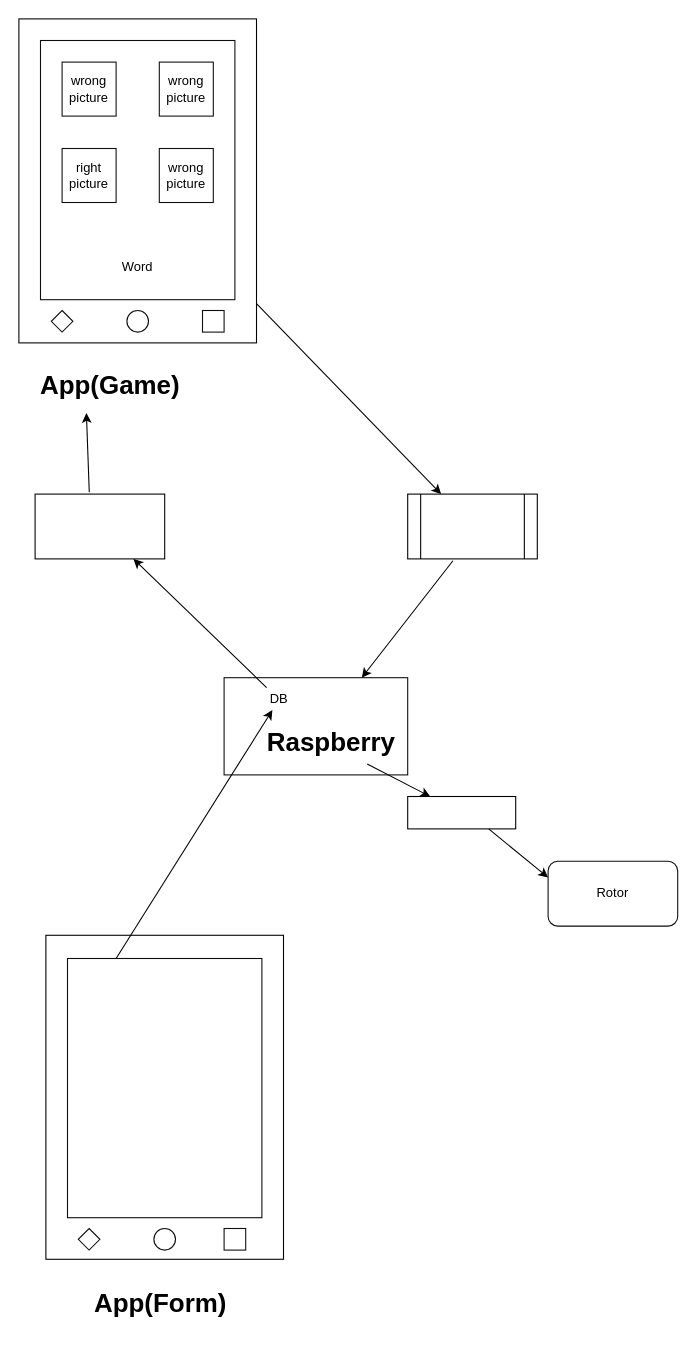
Image size: 697x1345. Some labels were removed from this diagram. The shapes that lost their labels are listed below. From the top down, each one's centre as x and y in pixels, then its label:
At point 99,526: "Question info".
At point 472,526: "Choice".
At point 461,812: "Rotor commands".
